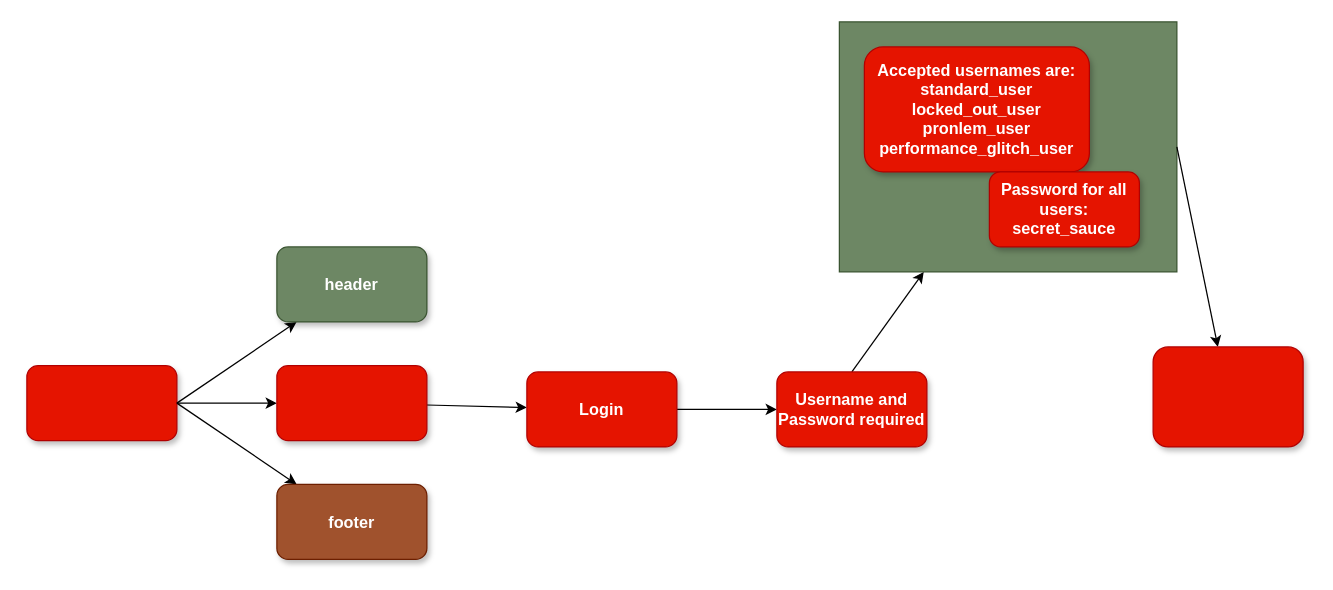
Some shapes in this 1333 by 590 pixel diagram are drawn without their labels. The centre of each missing label's shape, as x and y in pixels:
Main: point 352,404
Selected "standard_user" and "secret_sauce": point 1229,398
Swag Labs: point 102,404
